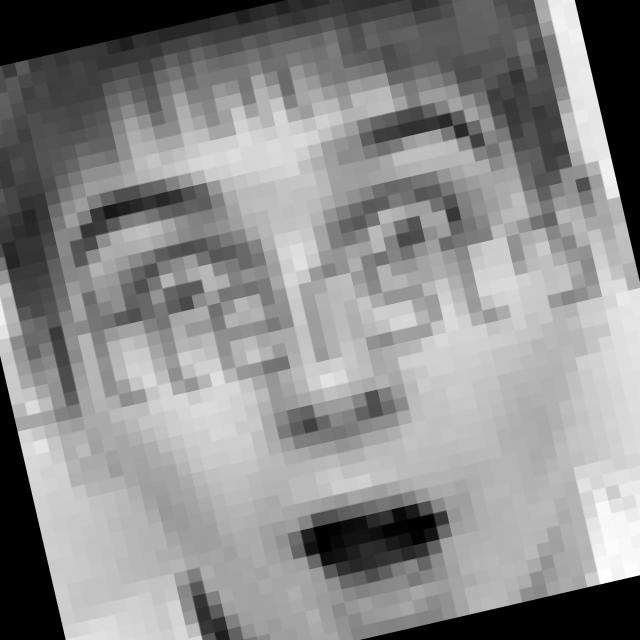surprise: (49, 85, 604, 640)
